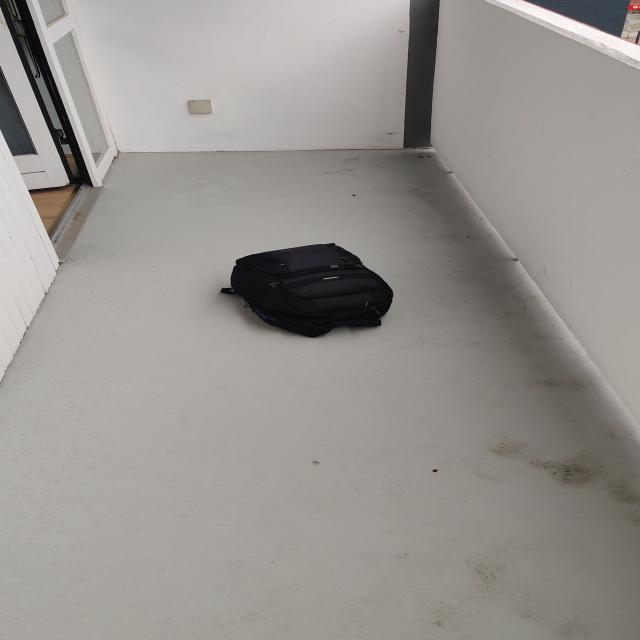backpack: (223, 239, 400, 338)
